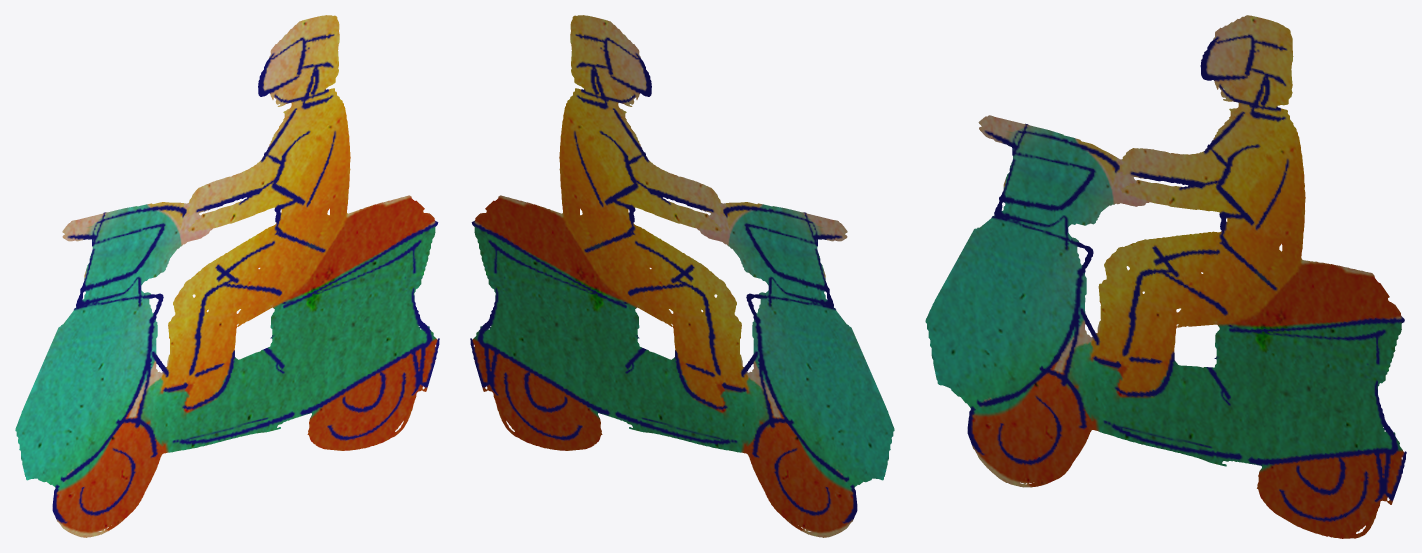
File: people_05.fbx
The picture shows the model from 3 angles, left to right: view 1: azimuth 30°, elevation 25°; view 2: azimuth 150°, elevation 25°; view 3: azimuth 330°, elevation 25°; orthographic projection. The views are drawn at different scales.
Visible parts, largest first — view 1: people_05; view 2: people_05; view 3: people_05.
Part boxes in pixels (box(x1,y1,x2,y2)): people_05: box(15, 15, 439, 537); people_05: box(470, 15, 894, 537); people_05: box(925, 15, 1406, 538).
Bounding box in the file's own units: 88.59 × 92.75 × 1.11e-05.
Materials: 1 (1 with a texture image).
